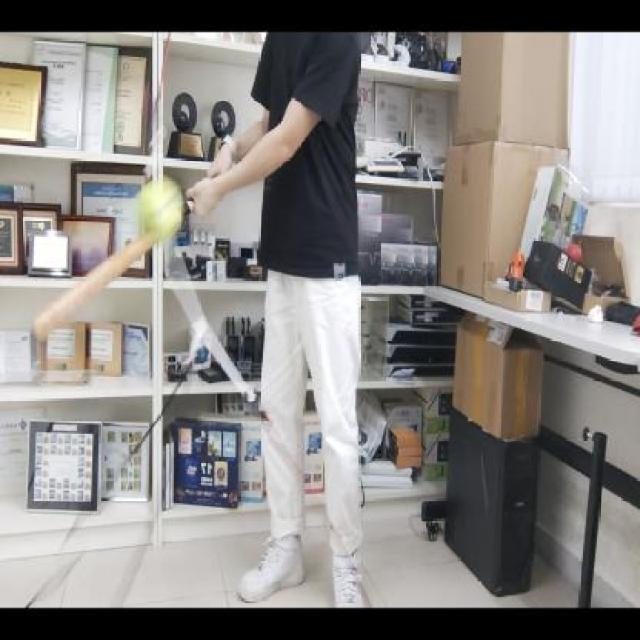baseball: (136, 176, 184, 244)
